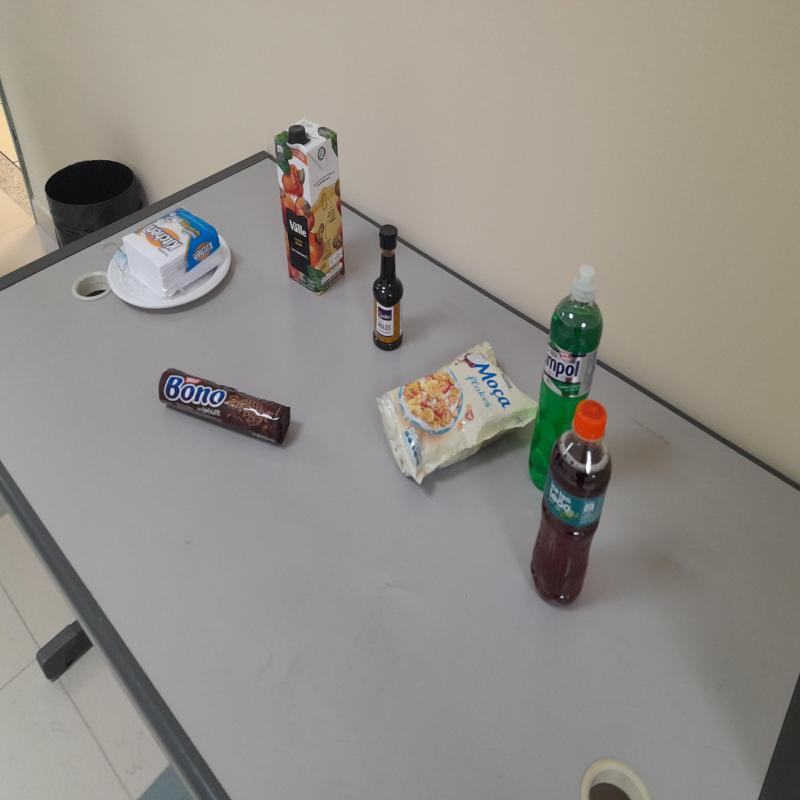Cleaner: (525, 267, 604, 496)
Cookies: (152, 362, 294, 440)
CornFlakes: (380, 341, 536, 496)
EnglishSauce: (372, 227, 407, 352)
IceTea: (529, 400, 612, 599)
